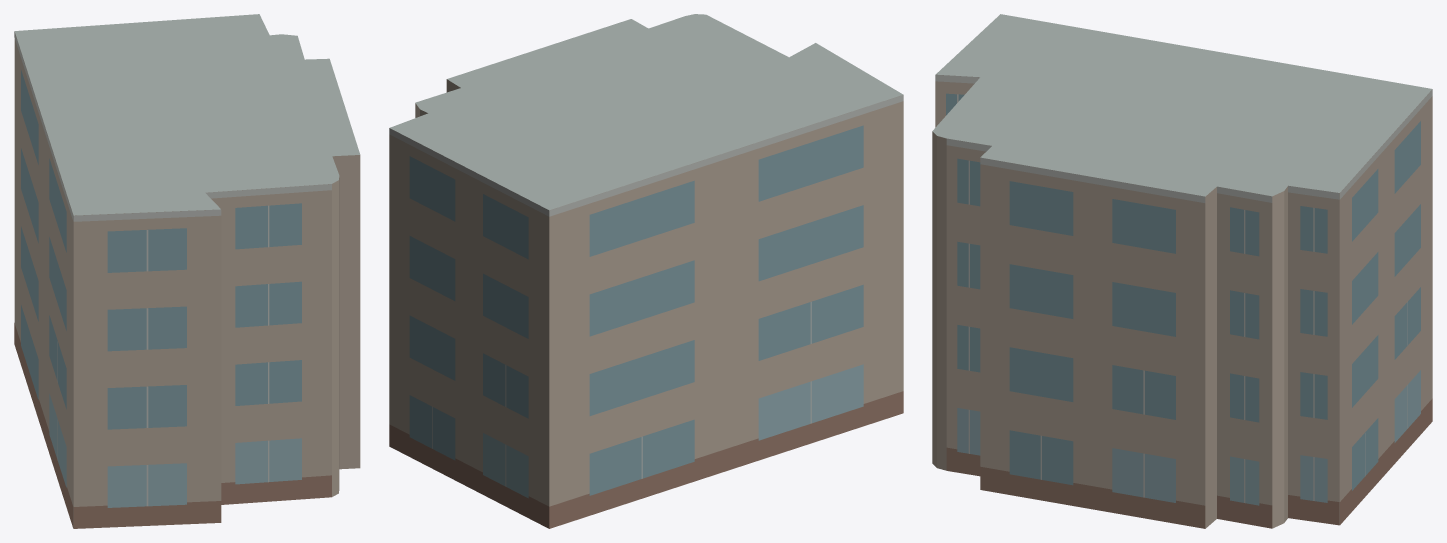
File: survey-upis-32944663.glb
3 views of the same model, side by side, from view 1: azimuth 30°, elevation 25°; view 2: azimuth 150°, elevation 25°; view 3: azimuth 270°, elevation 25° (orthographic). The views are drawn at different scales.
Visible parts, largest first — view 1: survey-upis-32944663.tmp; view 2: survey-upis-32944663.tmp; view 3: survey-upis-32944663.tmp.
Part boxes in pixels (x1,y1,x2,y2): survey-upis-32944663.tmp: (14,14,360,528); survey-upis-32944663.tmp: (389,14,903,528); survey-upis-32944663.tmp: (932,14,1432,528).
Bounding box in the file's own units: 14.27 × 12.1 × 16.52.
